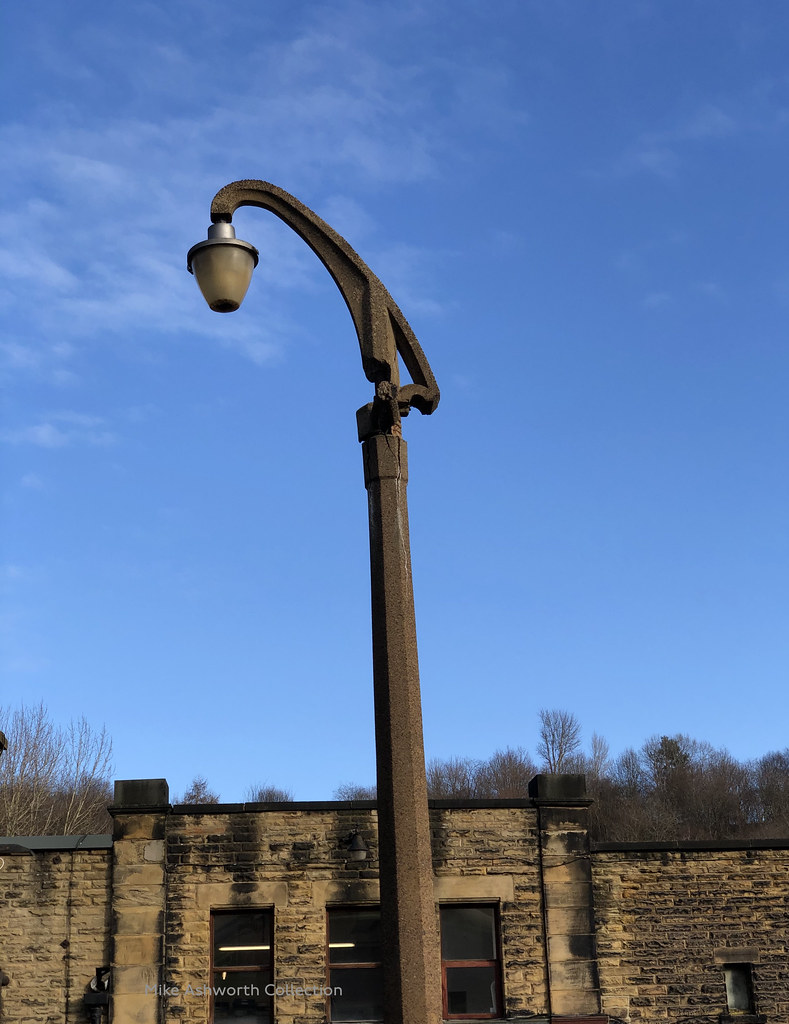light_pole: (330, 250, 464, 1024)
